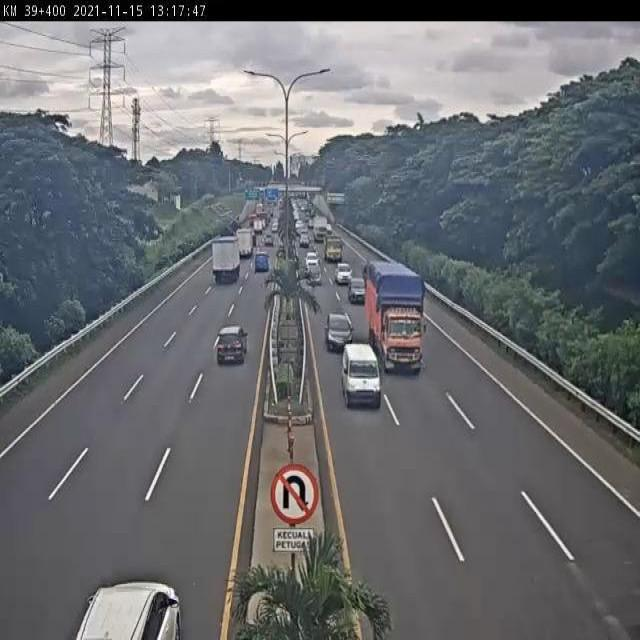car: (215, 324, 249, 365), (324, 311, 354, 353), (347, 275, 368, 304), (305, 263, 324, 289), (335, 261, 353, 287)
truck: (365, 260, 429, 371), (339, 345, 385, 408), (214, 236, 245, 283)
